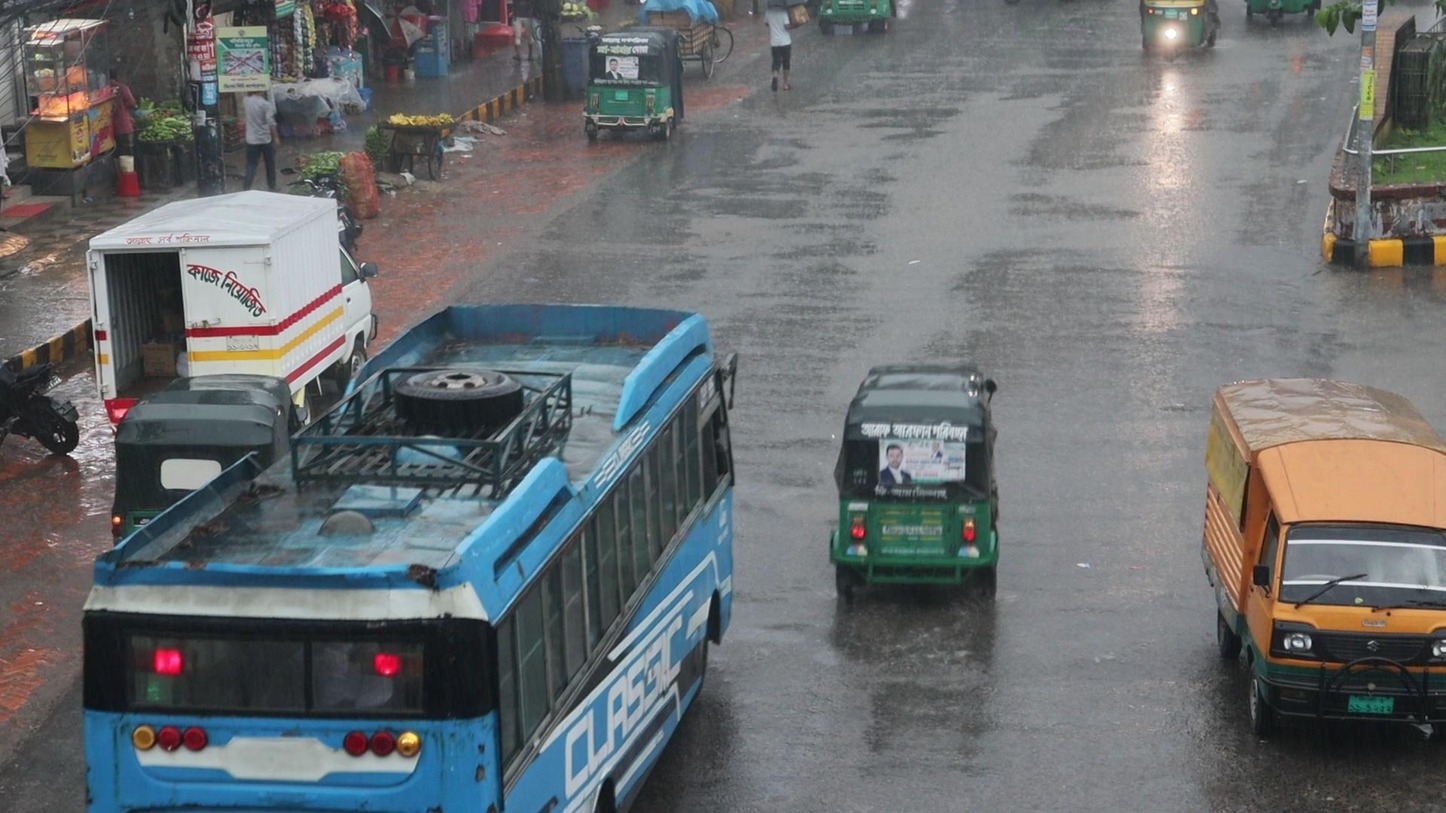Truck: (1190, 370, 1446, 742)
